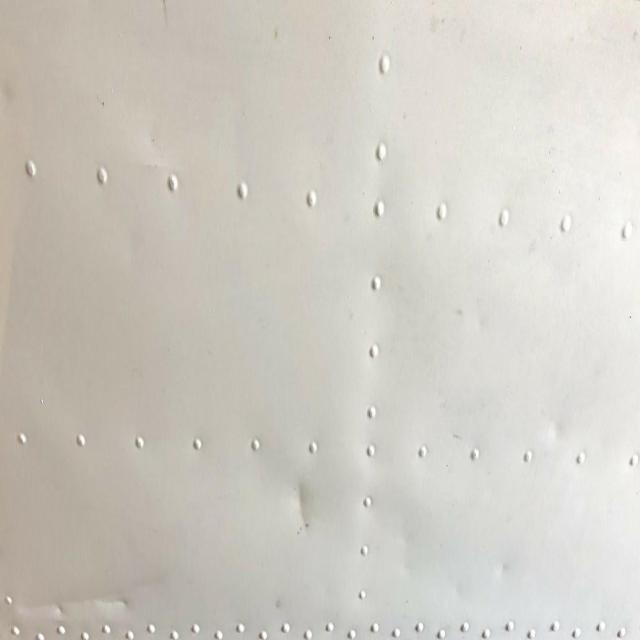Dent: (67, 594, 132, 613), (291, 479, 313, 535), (18, 599, 65, 617), (549, 416, 566, 457), (498, 556, 511, 584)
